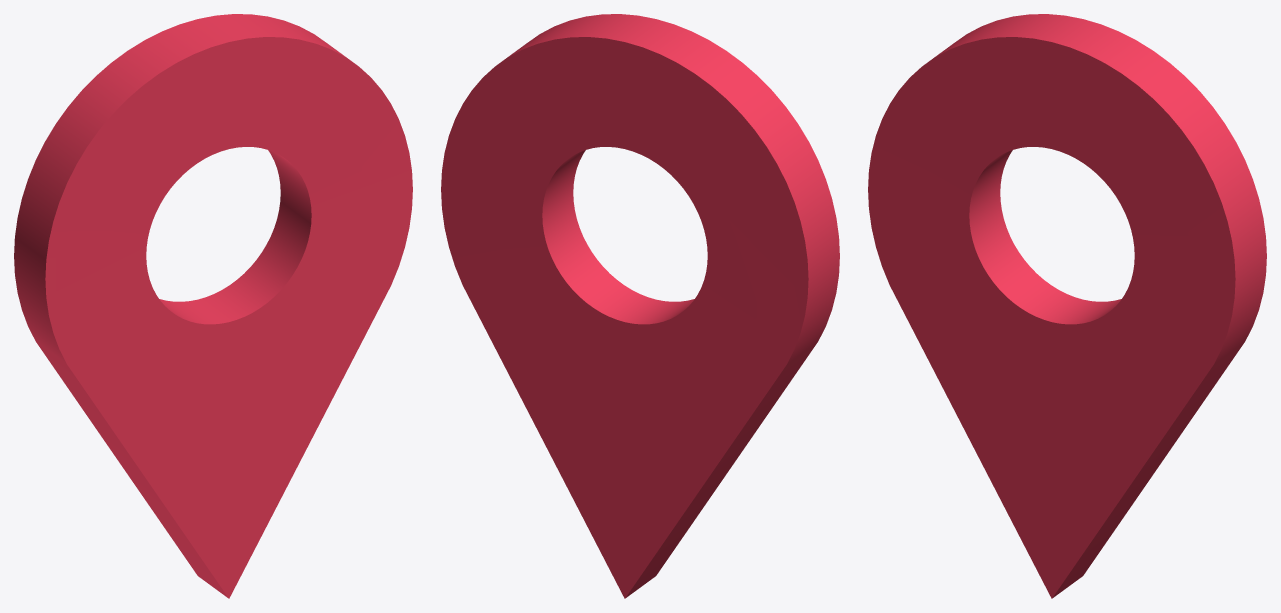
Rendered from pin.glb.
3 renders of one model, left to right at view 1: azimuth 30°, elevation 25°; view 2: azimuth 150°, elevation 25°; view 3: azimuth 330°, elevation 25°, orthographic.
Parts seen in each view (by area): view 1: Pin; view 2: Pin; view 3: Pin.
Part boxes in pixels (x1,y1,x2,y2): Pin: [14, 14, 412, 598]; Pin: [441, 14, 839, 598]; Pin: [868, 14, 1266, 598].
Size of the model in its own units: 0.2 by 0.2896 by 0.0296.
